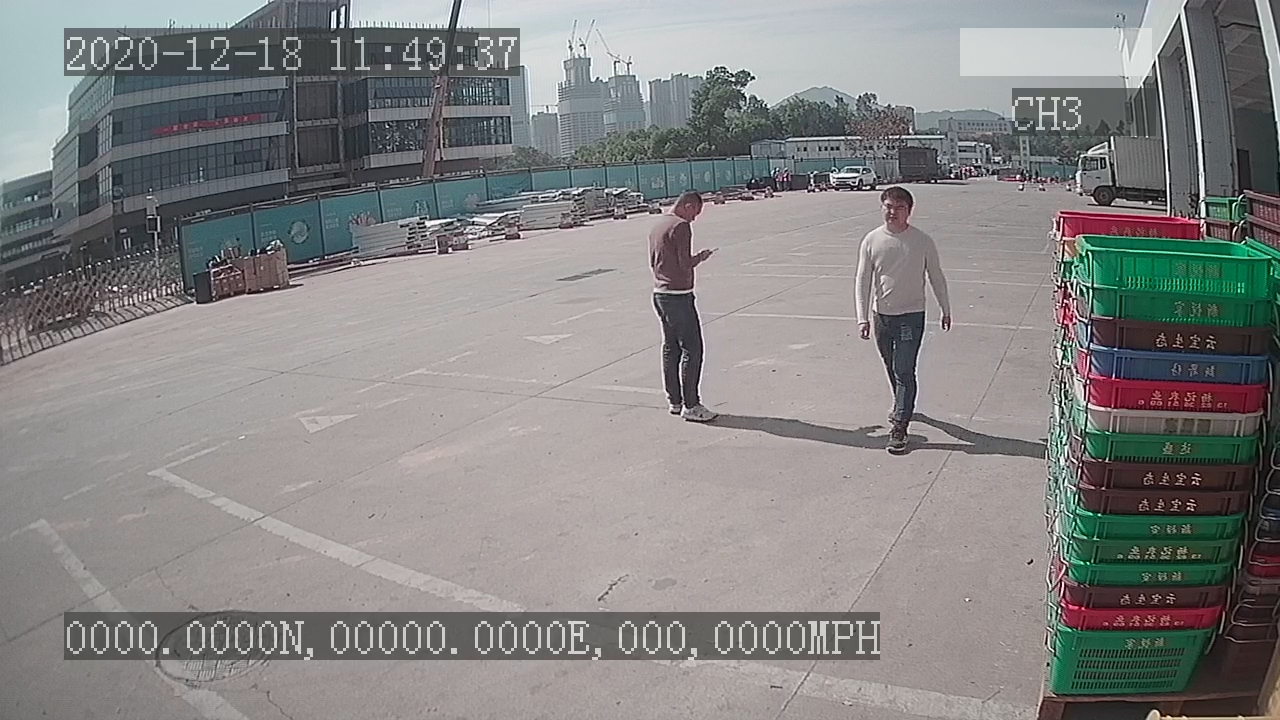person: (852, 185, 956, 460), (643, 188, 724, 431)
